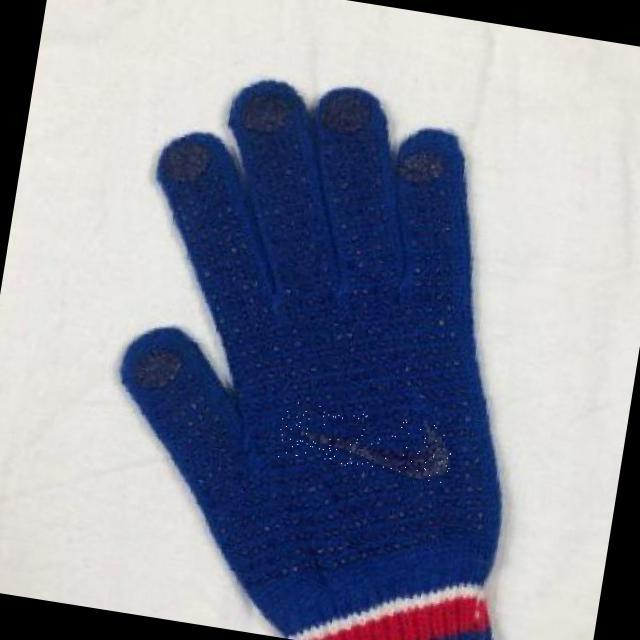Nike: (273, 400, 456, 484)
